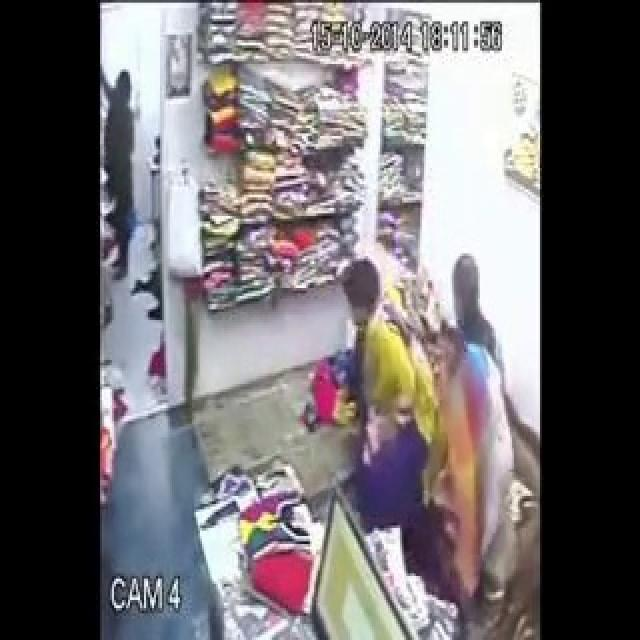Shoplifting: (417, 233, 517, 548)
